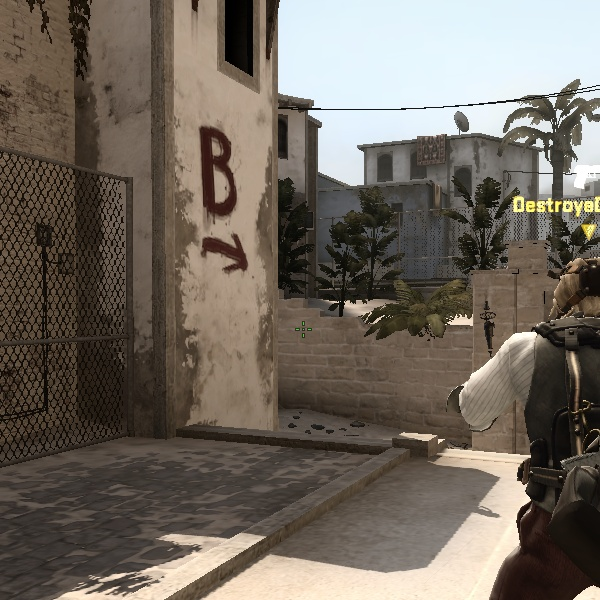t_body: (478, 248, 600, 600)
t_head: (533, 247, 600, 333)
